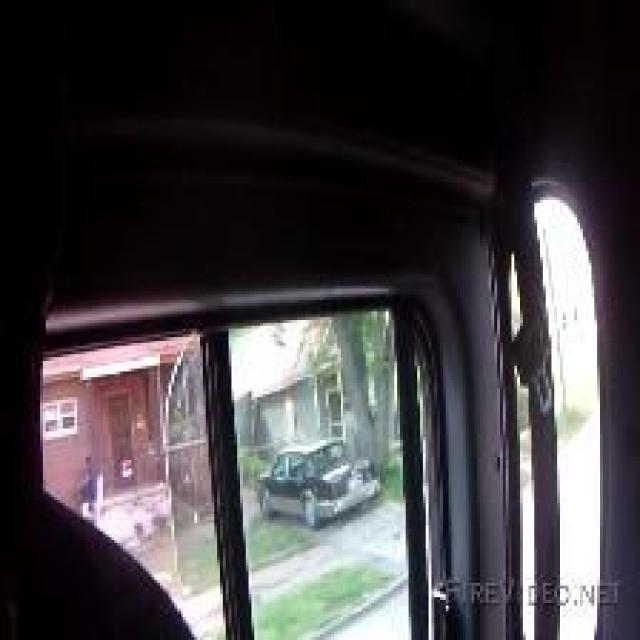other: (526, 199, 606, 610), (229, 334, 319, 386)
